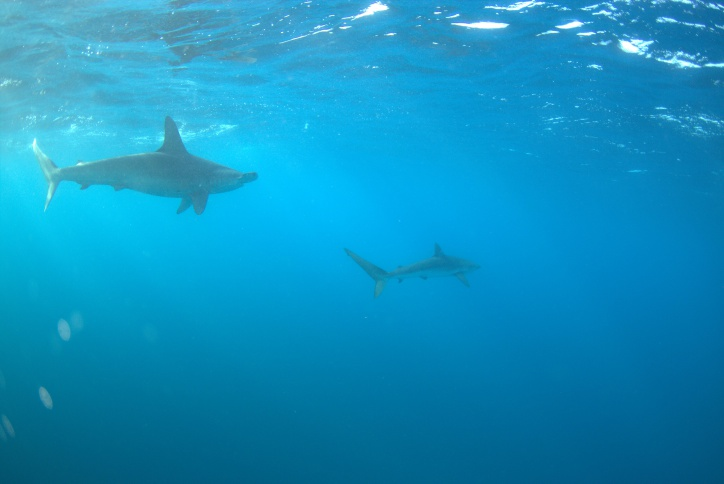Hammer: (329, 231, 495, 337)
